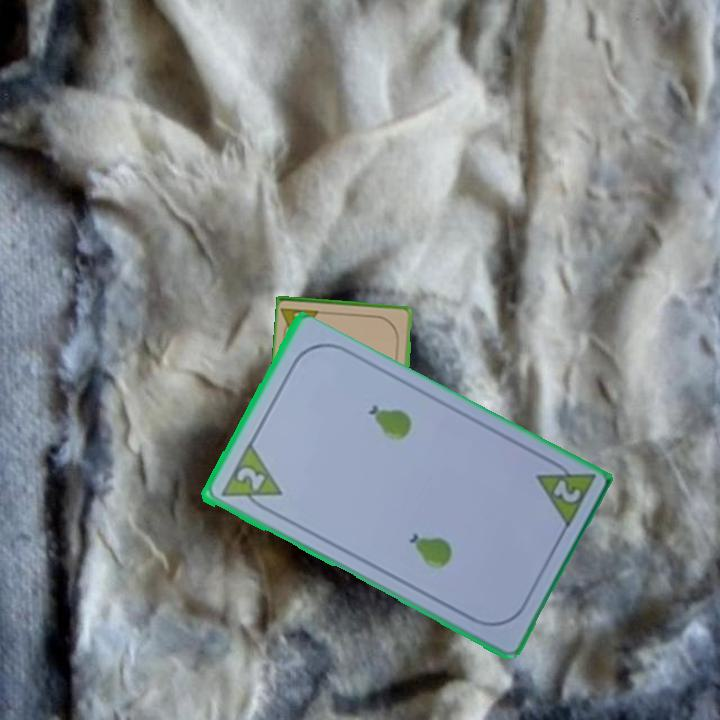2p: (531, 453, 597, 533), (216, 441, 284, 517)
